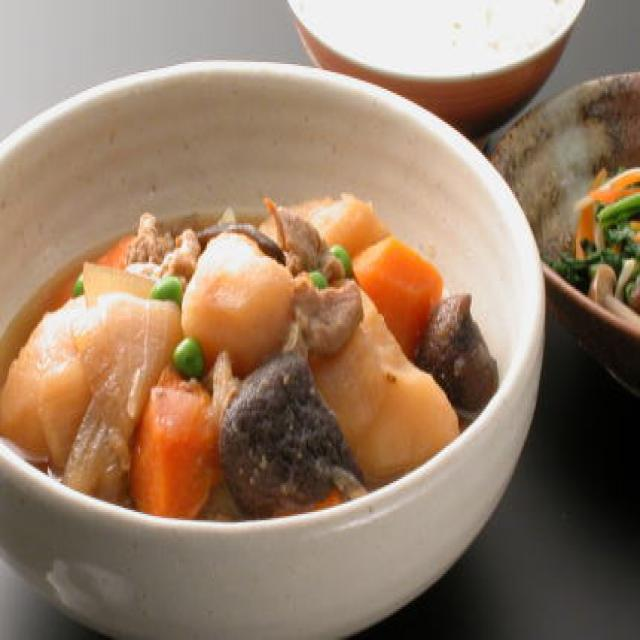牛肉菜式: (0, 51, 546, 640)
